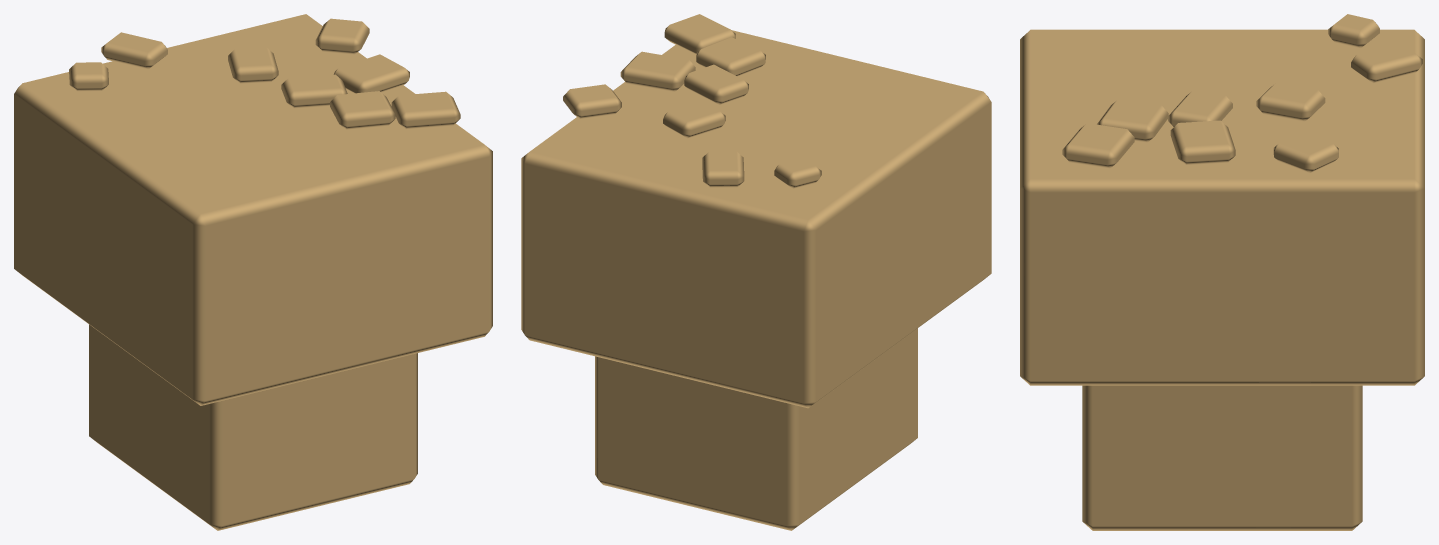
Rendered from HopperSand2.glb.
3 views of the same model, side by side, from view 1: azimuth 30°, elevation 25°; view 2: azimuth 150°, elevation 25°; view 3: azimuth 270°, elevation 25° (orthographic). The views are drawn at different scales.
Parts seen in each view (by area): view 1: HopperSand2.001; view 2: HopperSand2.001; view 3: HopperSand2.001.
Part boxes in pixels (left/top/right/bottom): HopperSand2.001: left=14, top=14, right=492, bottom=530; HopperSand2.001: left=521, top=14, right=991, bottom=530; HopperSand2.001: left=1020, top=14, right=1424, bottom=530.
Size of the model in its own units: 0.7294 by 0.86 by 0.78.
